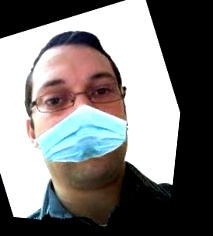mask_weared_incorrect: (27, 38, 131, 184)
